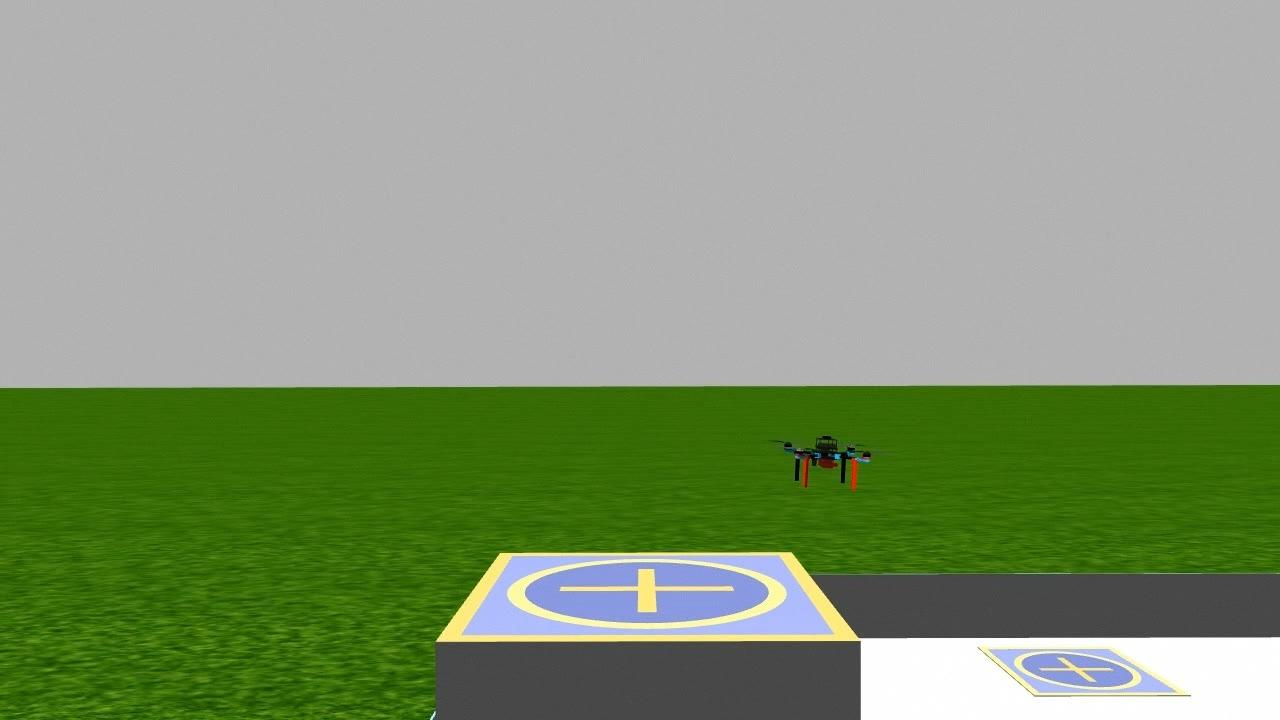UAV: (741, 421, 910, 497)
